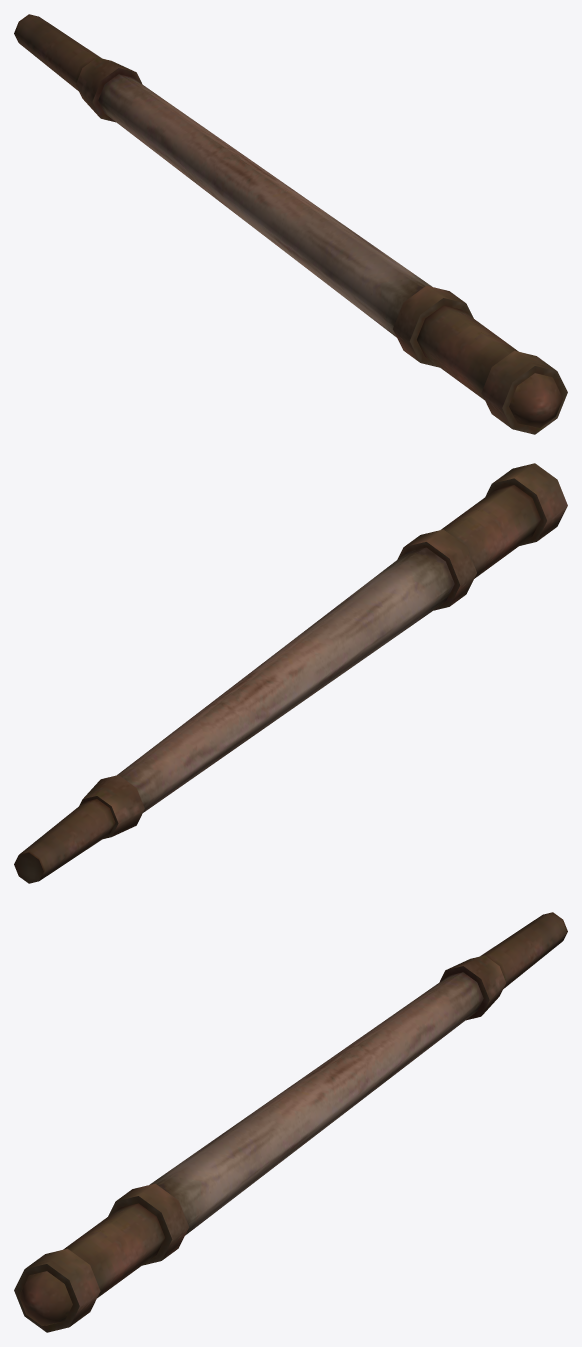
3 renders of one model, top to bottom at view 1: azimuth 30°, elevation 25°; view 2: azimuth 150°, elevation 25°; view 3: azimuth 330°, elevation 25°, orthographic.
Parts seen in each view (by area): view 1: mWand; view 2: mWand; view 3: mWand.
Part boxes in pixels (left/top/right/bottom): mWand: left=14, top=14, right=567, bottom=434; mWand: left=14, top=463, right=567, bottom=883; mWand: left=14, top=912, right=567, bottom=1332.
Size of the model in its own units: 0.0686 by 0.0686 by 0.9101.
Materials: 1 (1 with a texture image).
